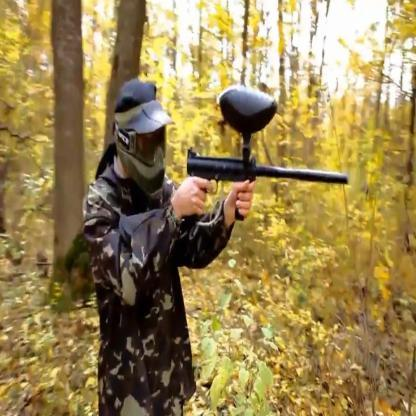gun: (179, 82, 362, 211)
